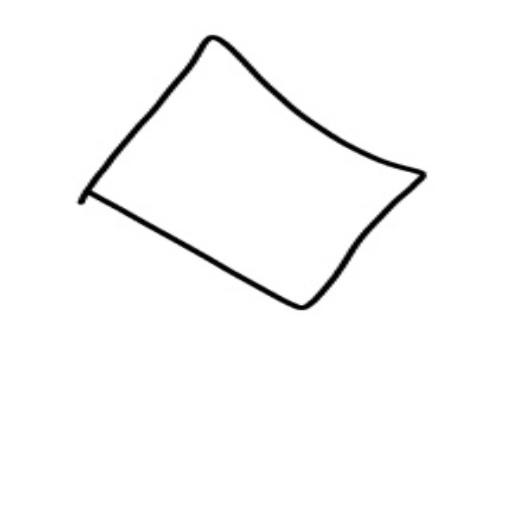square: (60, 22, 418, 319)
